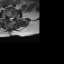CCS_stenosis: (10, 15, 12, 22)
LFS_stenosis: (13, 15, 15, 19)
LLS_normal: (12, 15, 13, 21)
RFS_severe_stenosis: (7, 15, 8, 20)
RLS_normal: (8, 15, 10, 21)
